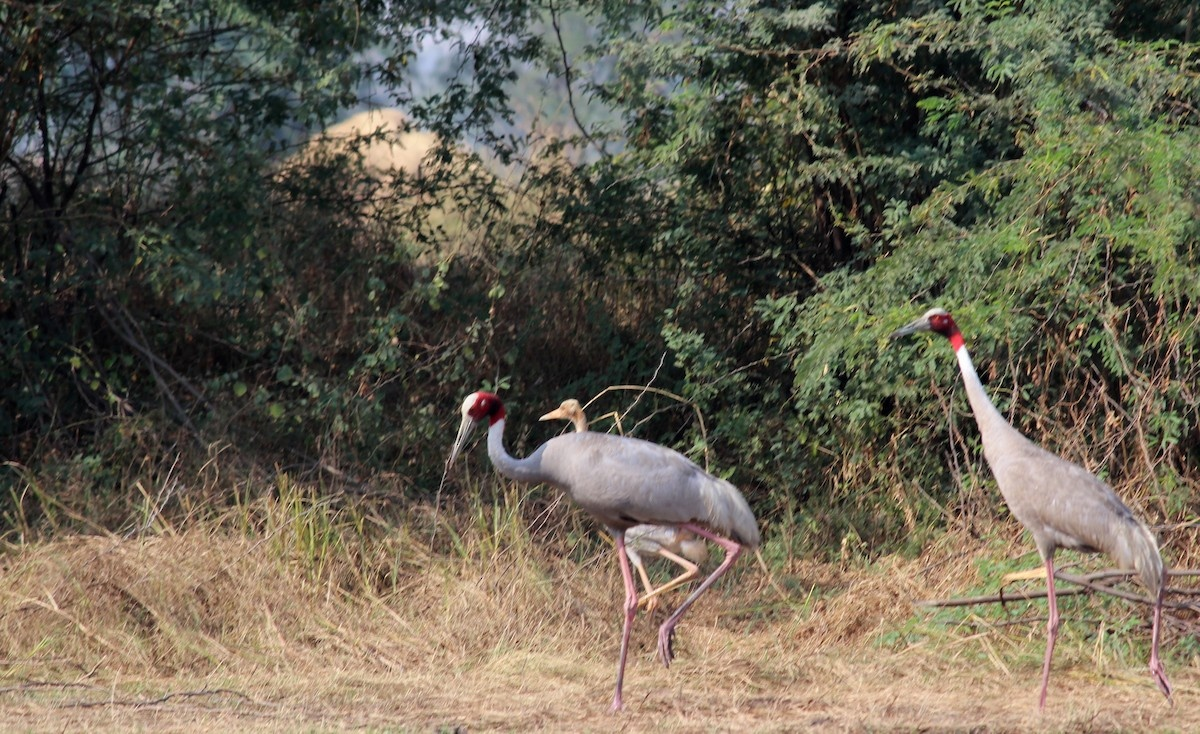crane: (894, 297, 1178, 710), (443, 383, 770, 701)
